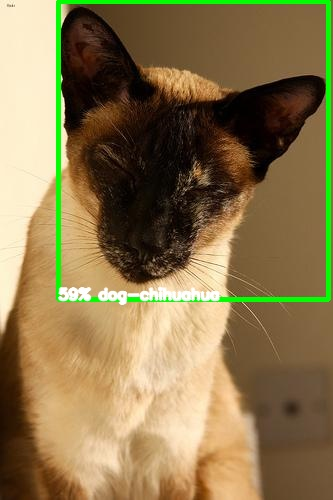cat-Siamese: (60, 7, 325, 284)
